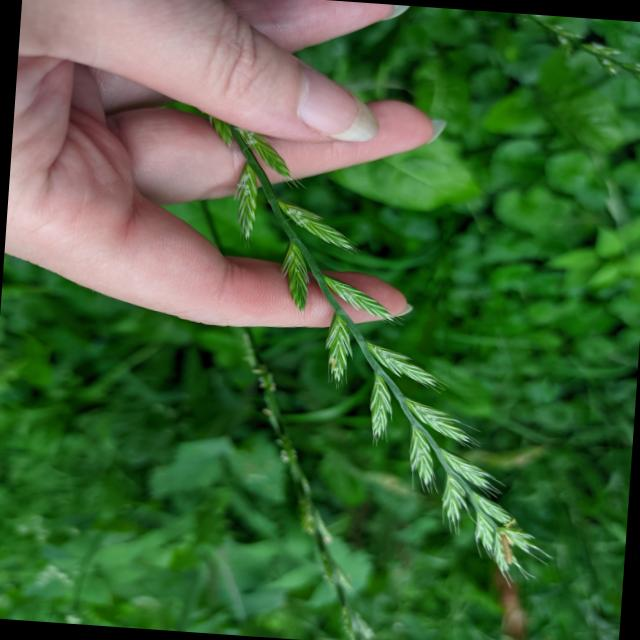Lolium: (142, 103, 586, 590)
